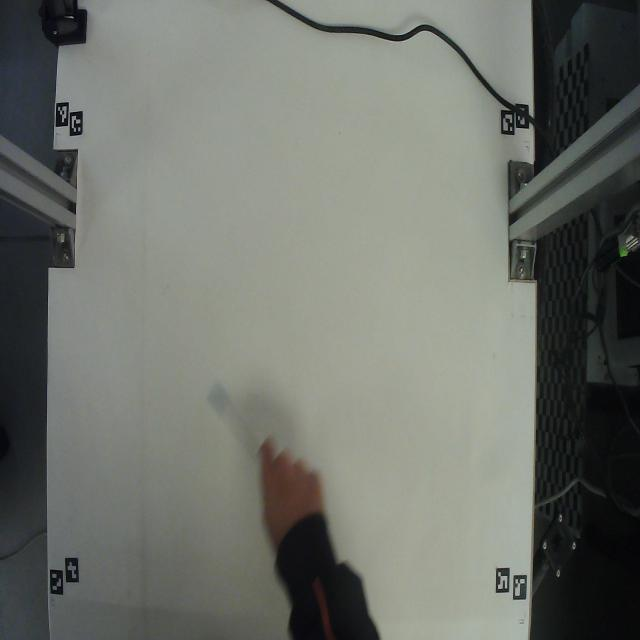NoPres: (202, 346, 269, 489)
